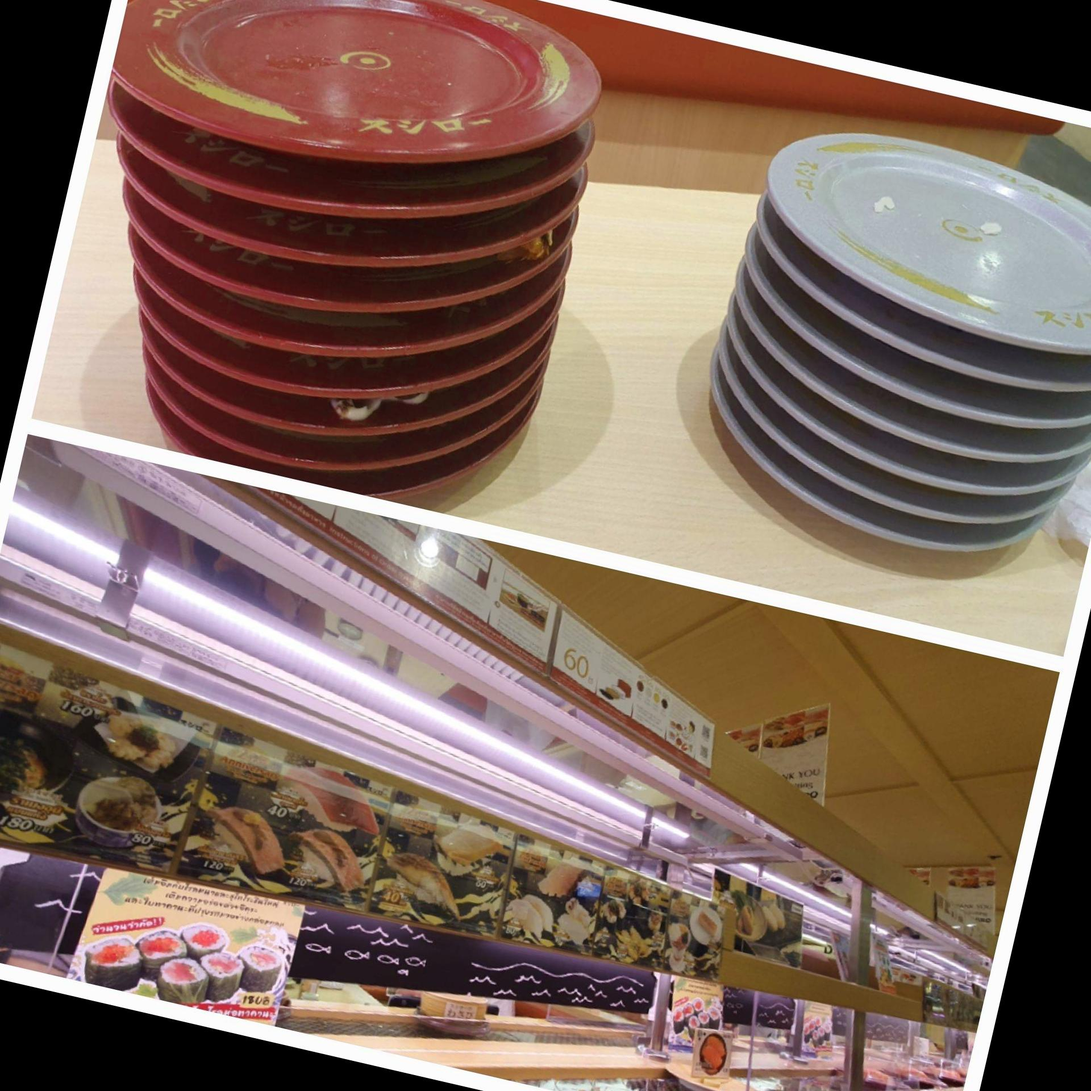Janred: (113, 0, 611, 181), (113, 114, 538, 248), (166, 188, 443, 294), (419, 255, 553, 474), (179, 255, 433, 341), (188, 293, 426, 380), (193, 342, 406, 419), (203, 391, 417, 465), (195, 426, 392, 486)
Janwhite: (763, 129, 1091, 361), (815, 309, 1091, 408), (767, 421, 1057, 511), (843, 357, 1091, 445), (708, 261, 814, 459), (809, 464, 1040, 538), (798, 494, 1018, 568), (850, 406, 1067, 479)
